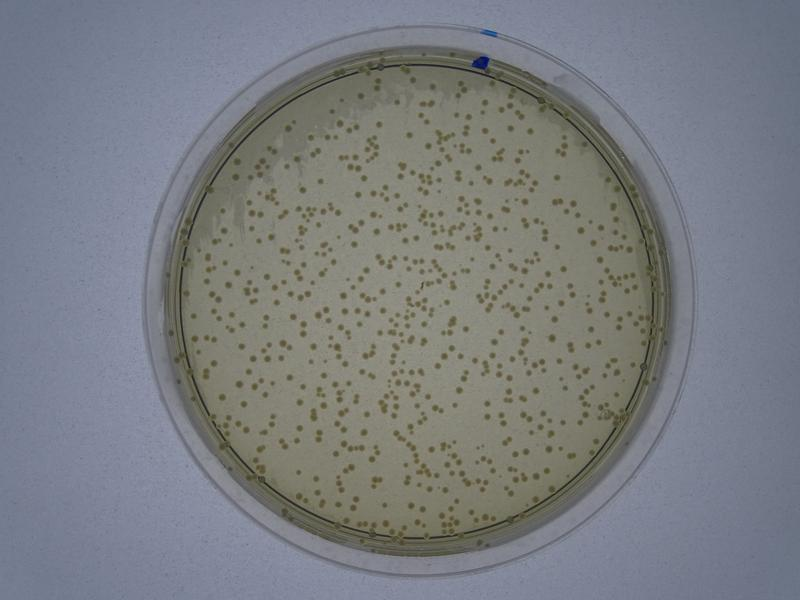colony: (496, 325, 508, 338), (404, 129, 416, 140), (295, 184, 308, 194), (481, 397, 492, 408), (315, 177, 327, 187), (550, 316, 561, 326), (353, 191, 363, 201), (432, 362, 443, 371), (267, 230, 275, 242), (349, 240, 359, 249), (559, 263, 568, 273), (233, 380, 243, 389), (218, 393, 227, 403), (223, 280, 233, 289), (284, 372, 293, 382), (596, 254, 605, 264), (462, 324, 471, 334), (296, 397, 304, 408), (369, 209, 377, 220), (391, 98, 402, 106), (288, 312, 297, 321), (295, 424, 304, 433), (577, 225, 585, 235), (338, 291, 348, 299), (359, 428, 369, 436), (483, 242, 491, 251), (401, 237, 409, 245)
